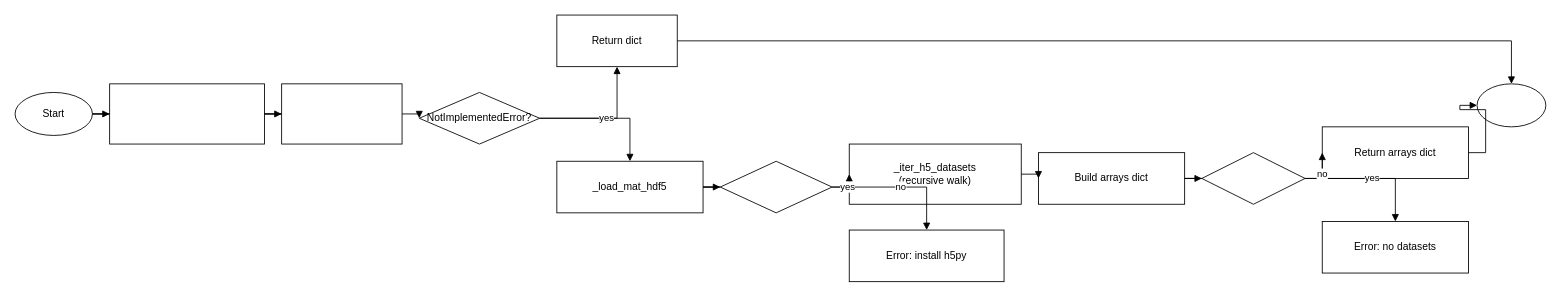
This 1561x297 diagram has some shape labels left out. The centre of each missing label's shape, as x and y in pixels:
"Arrays empty?" goes at point (1253, 178).
"End" goes at point (1511, 105).
"h5py available?" goes at point (775, 186).
"load_mat_file(path)" goes at point (186, 113).
"try loadmat" goes at point (341, 113).
